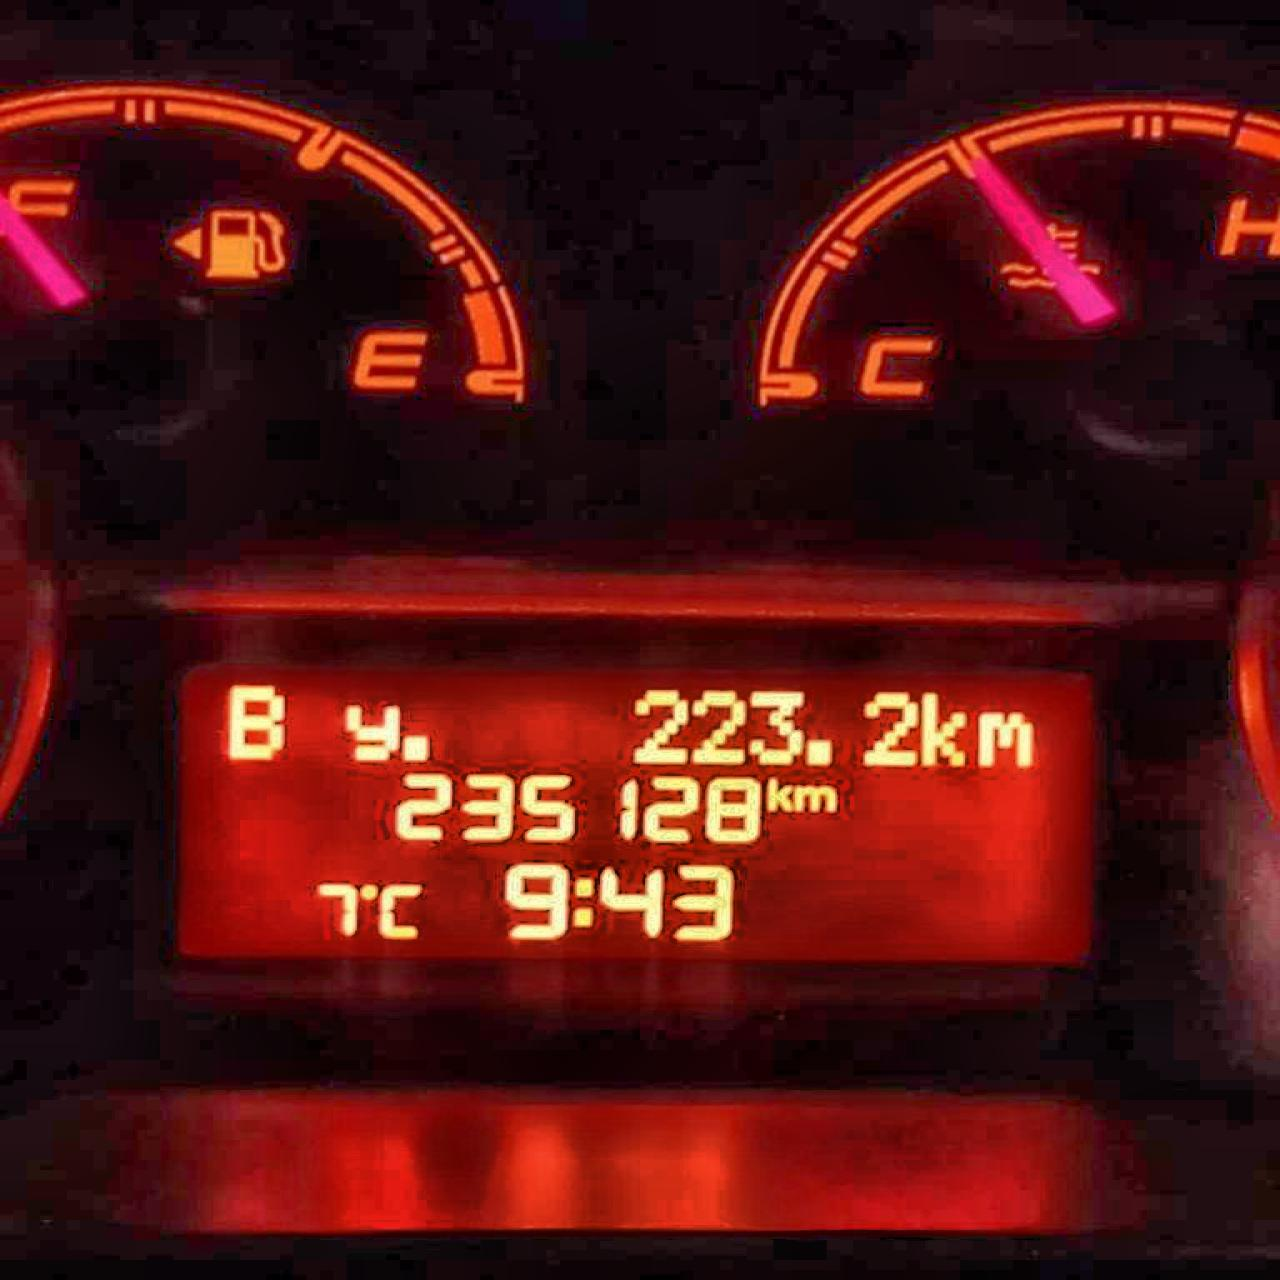-: (402, 729, 434, 763), (805, 736, 835, 765)
1: (607, 772, 639, 843)
2: (629, 685, 690, 764), (863, 683, 917, 768), (395, 768, 454, 844), (692, 685, 747, 765), (644, 771, 699, 840)
3: (672, 860, 734, 940), (750, 682, 803, 767), (458, 770, 515, 843)
4: (600, 864, 662, 941)
5: (522, 769, 578, 844)
7: (313, 880, 359, 938)
8: (707, 772, 761, 844)
9: (501, 859, 565, 942)
X: (225, 682, 284, 762), (973, 707, 1036, 771), (920, 686, 968, 770), (345, 702, 399, 760), (379, 880, 422, 940), (791, 783, 837, 816), (572, 869, 592, 933), (765, 774, 790, 813)
odometer: (159, 646, 1110, 980)
